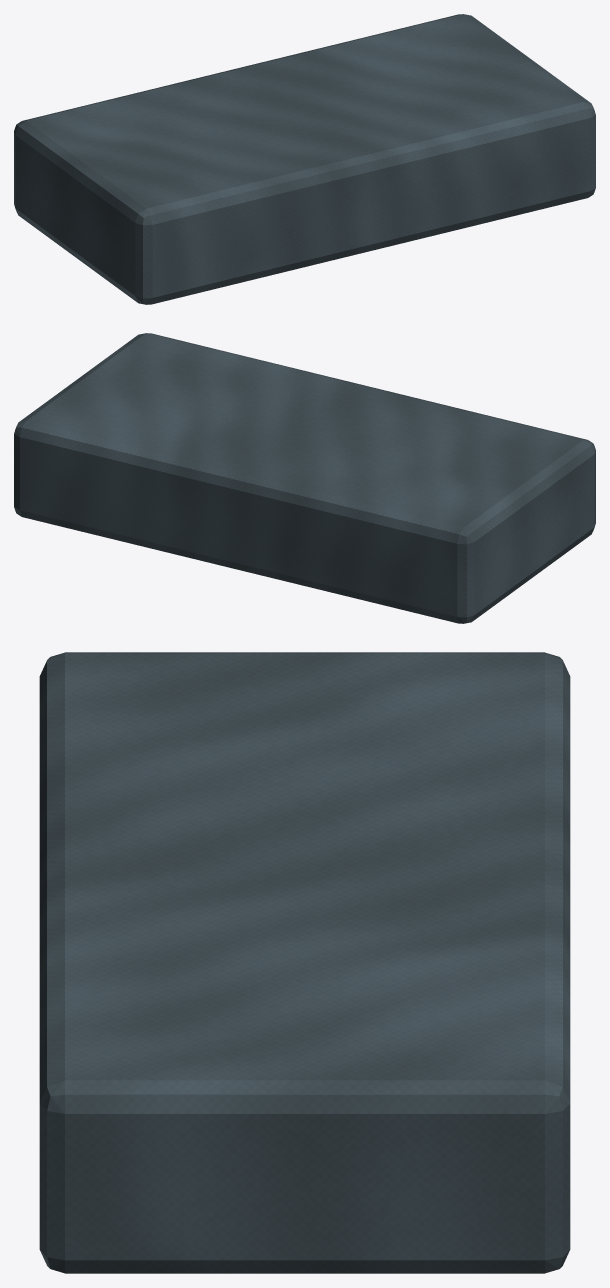
File: LowerTorso.fbx
The picture shows the model from 3 angles, top to bottom: view 1: azimuth 30°, elevation 25°; view 2: azimuth 150°, elevation 25°; view 3: azimuth 270°, elevation 25°; orthographic projection. The views are drawn at different scales.
Parts seen in each view (by area): view 1: LowerTorso; view 2: LowerTorso; view 3: LowerTorso.
Boxes of the visible parts, bbox=[...] form: LowerTorso: bbox=[14, 14, 595, 304]; LowerTorso: bbox=[14, 333, 595, 623]; LowerTorso: bbox=[39, 652, 570, 1273].
Bounding box in the file's own units: 2 × 0.4 × 1.
1 material, 1 textured.
